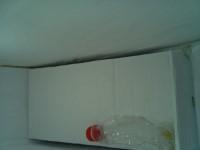bottle: (84, 114, 178, 150)
